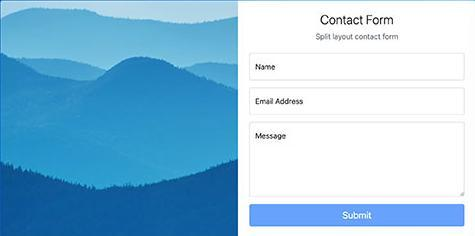button: (250, 204, 465, 228)
input: (250, 88, 466, 116), (251, 54, 466, 81)
label: (319, 14, 396, 28), (315, 34, 400, 42)
